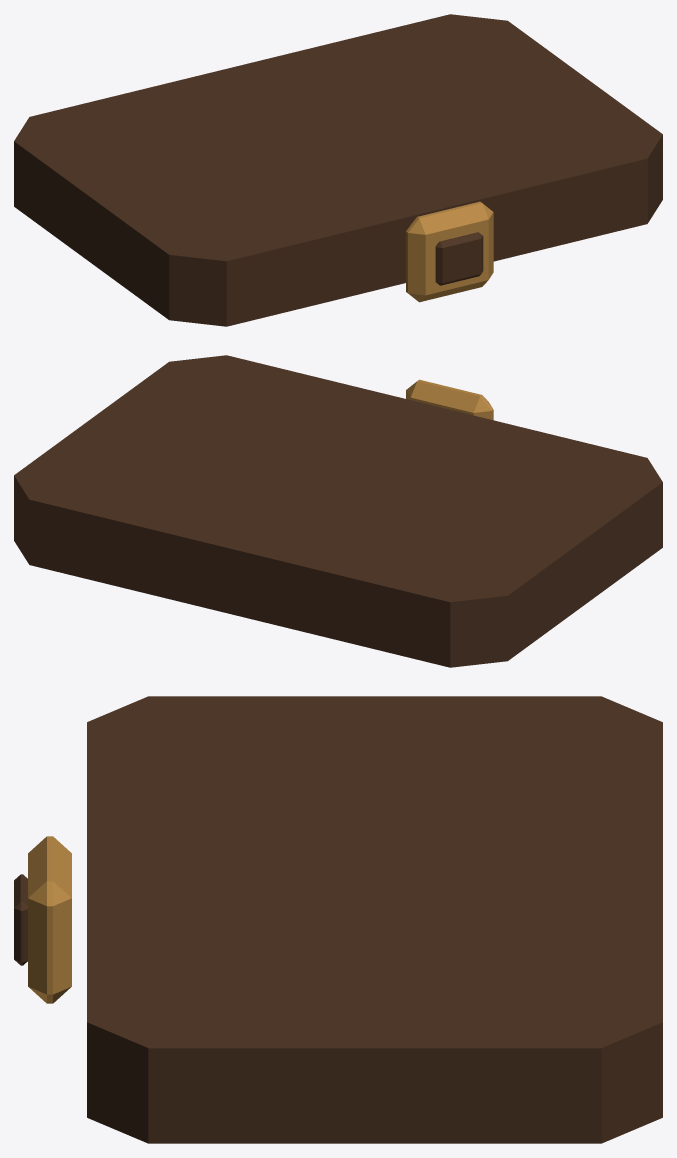
File: SM_NPC_Belt_01_Plain.glb
The picture shows the model from 3 angles, top to bottom: view 1: azimuth 30°, elevation 25°; view 2: azimuth 150°, elevation 25°; view 3: azimuth 270°, elevation 25°; orthographic projection. The views are drawn at different scales.
Visible parts, largest first — view 1: SM_NPC_Belt_01_Plain; view 2: SM_NPC_Belt_01_Plain; view 3: SM_NPC_Belt_01_Plain.
Part boxes in pixels (bbox=[...]): SM_NPC_Belt_01_Plain: bbox=[14, 14, 662, 326]; SM_NPC_Belt_01_Plain: bbox=[14, 355, 662, 667]; SM_NPC_Belt_01_Plain: bbox=[14, 696, 662, 1143].
Bounding box in the file's own units: 0.474 × 0.077 × 0.3695.
